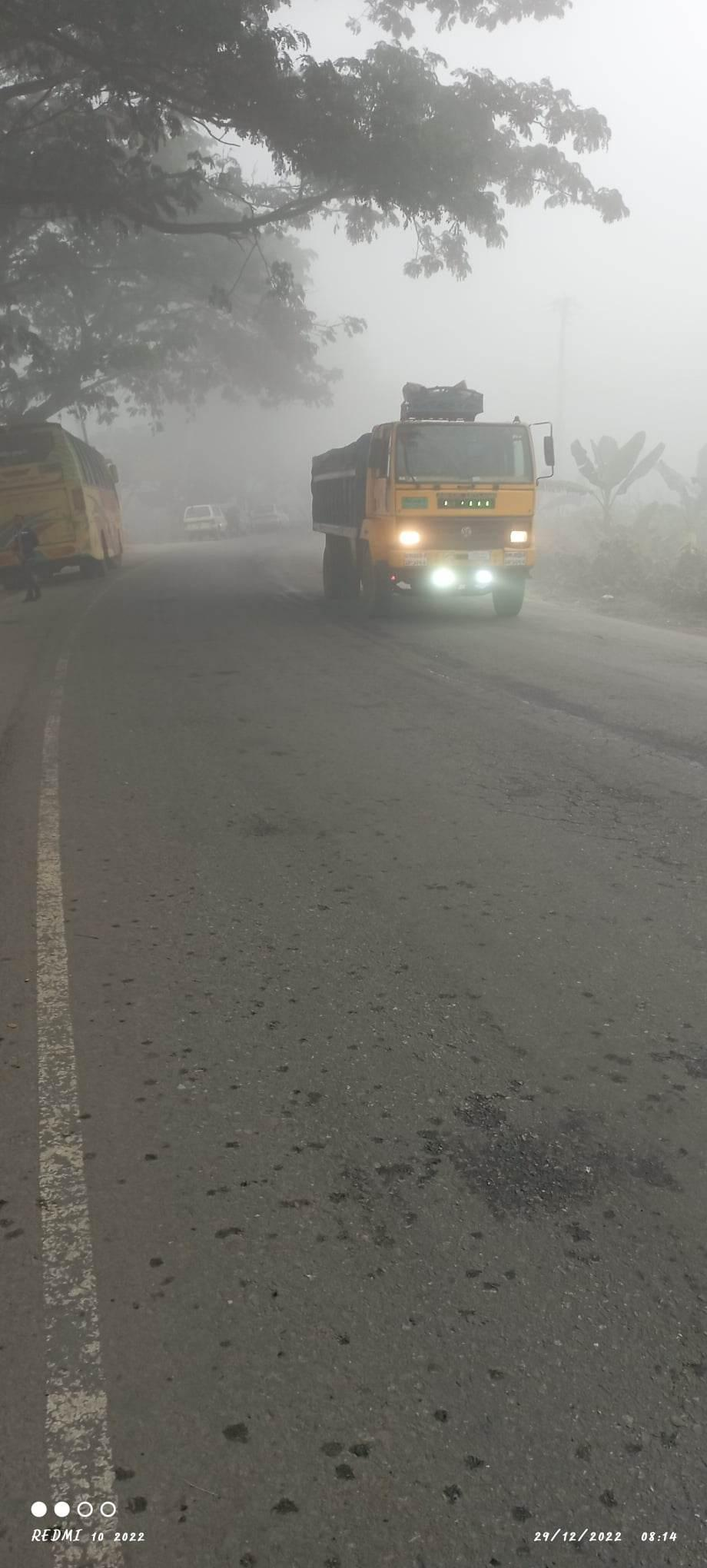Bus: (5, 388, 155, 589)
Car: (173, 483, 228, 553)
Truck: (274, 365, 579, 648)
